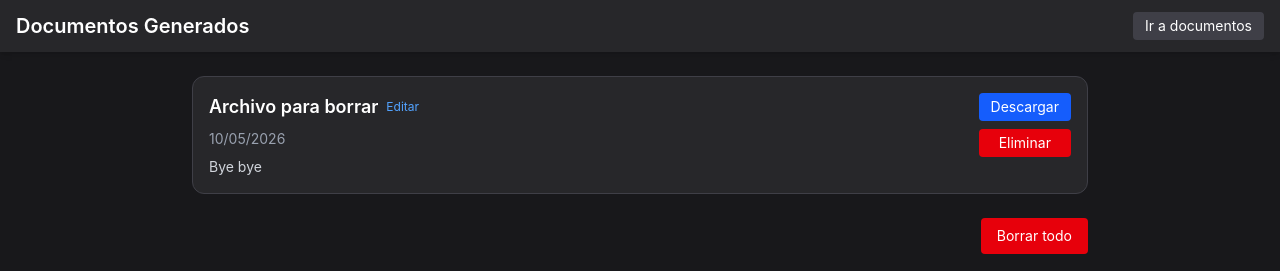
it: Documentos flow integration › debe completar el flujo de eliminación de un documento
The image size is (1280, 271).
Expected: the text "Archivo para borrar" is shown, [209,96,378,117]
Note: Clic en eliminar
Step 1. Click the button "Eliminar" → (1025, 143), box [979,129,1071,157]
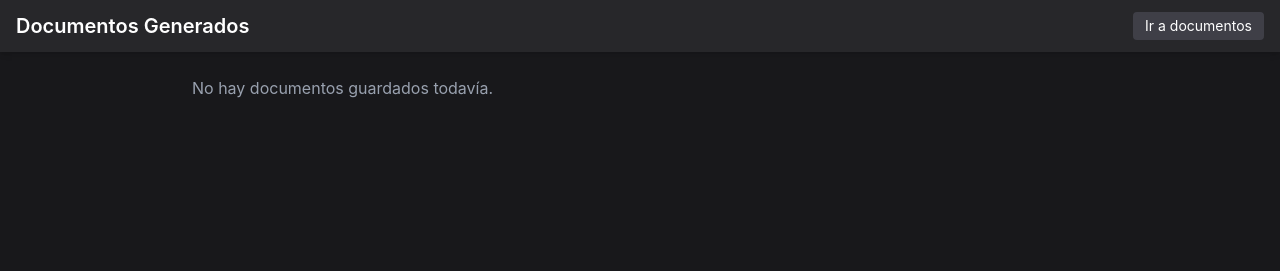
Now the text "Archivo para borrar" is gone
Now the text "No hay documentos guardados todavía." is shown, box [192,78,493,98]
